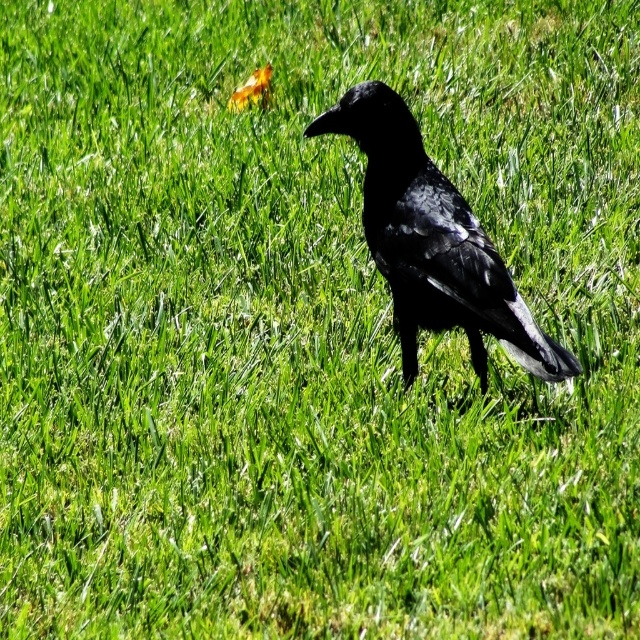Raven: (303, 80, 583, 398)
